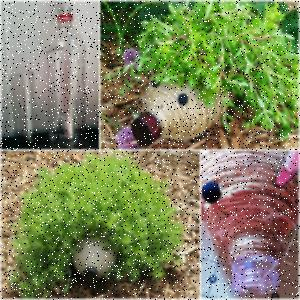Plastic-bottle: (45, 6, 87, 149)
